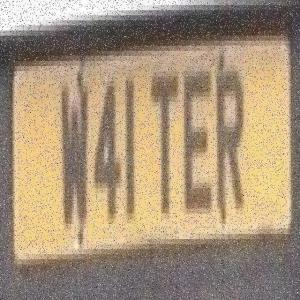Plate: (7, 18, 298, 284)
